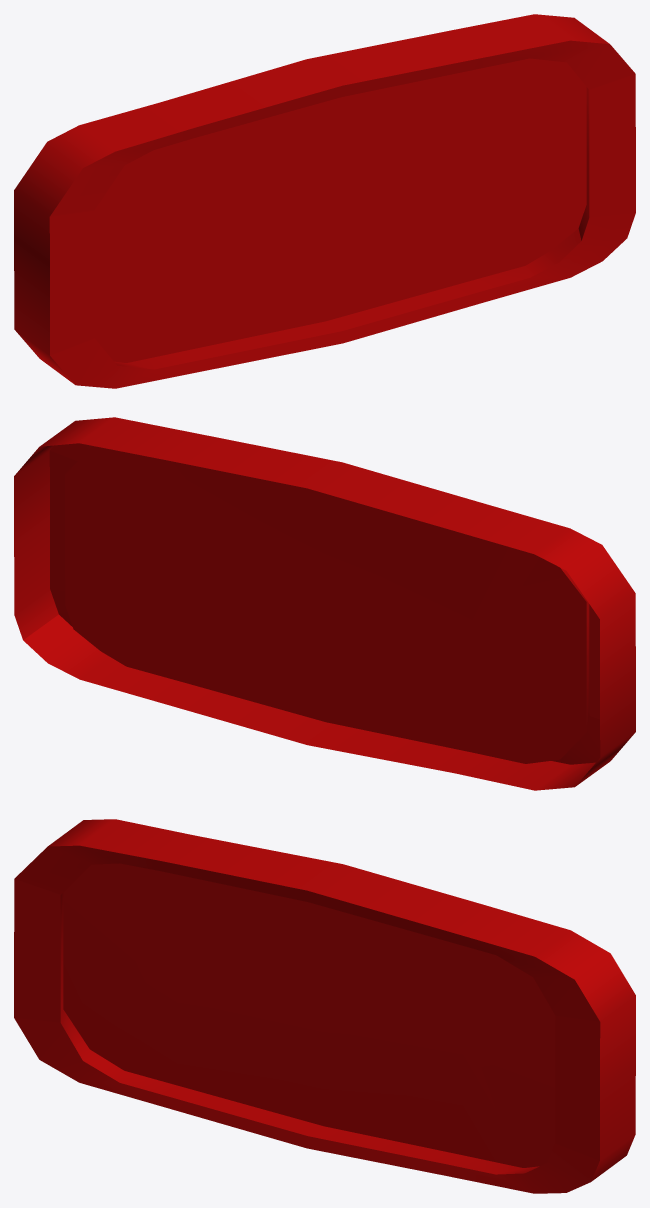
The model's file is SM_CatBedSign.fbx.
3 views of the same model, one above another, from view 1: azimuth 30°, elevation 25°; view 2: azimuth 150°, elevation 25°; view 3: azimuth 330°, elevation 25° (orthographic).
Visible parts, largest first — view 1: SM_CatBedSign; view 2: SM_CatBedSign; view 3: SM_CatBedSign.
Part boxes in pixels (x1=…): SM_CatBedSign: x1=14, y1=14, x2=635, y2=388; SM_CatBedSign: x1=14, y1=417, x2=635, y2=790; SM_CatBedSign: x1=14, y1=819, x2=635, y2=1193.
Size of the model in its own units: 110 by 46.3 by 11.84.
